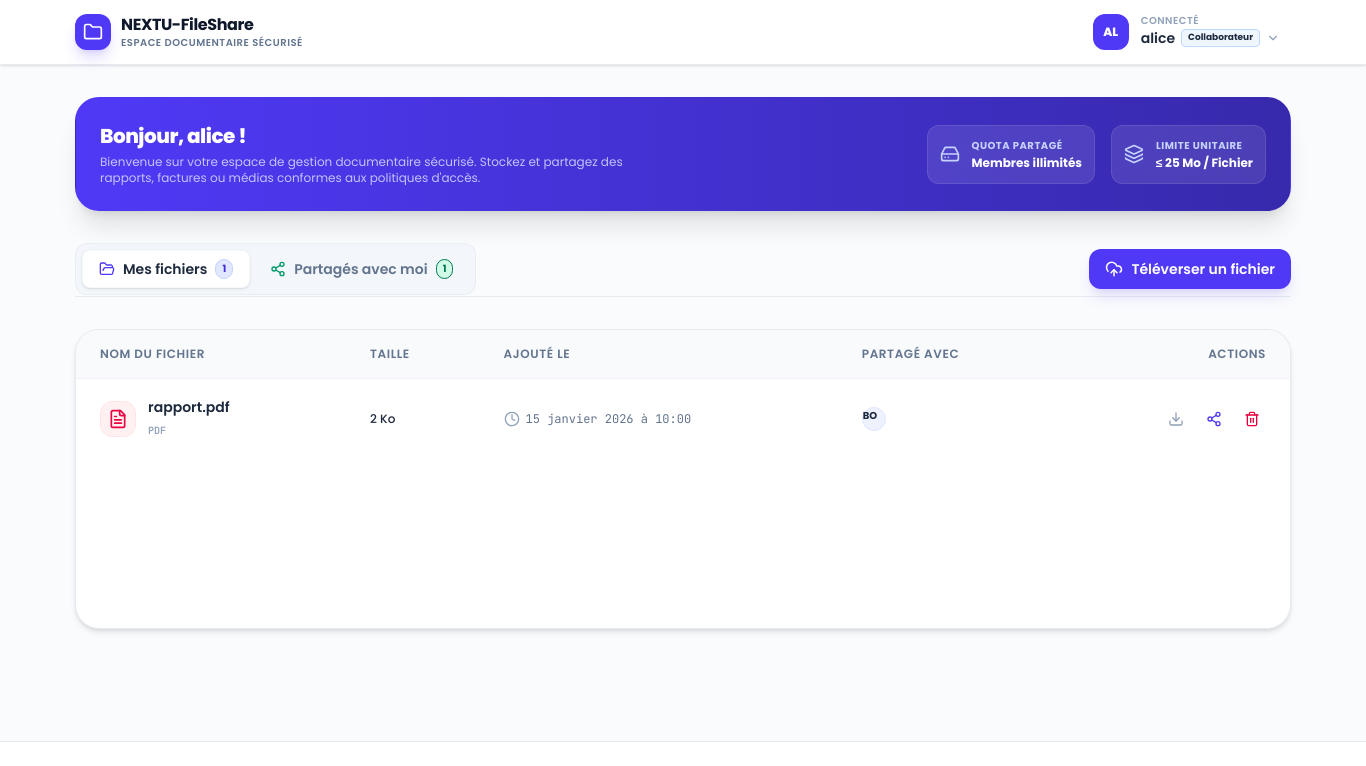
Test: Dashboard › revokes share from share modal when user is already shared
What coordinates should you click on to do the following:
click the button titled "Gérer le partage"
I would click on:
 (1214, 419)
Its box is [1200,405,1228,433].
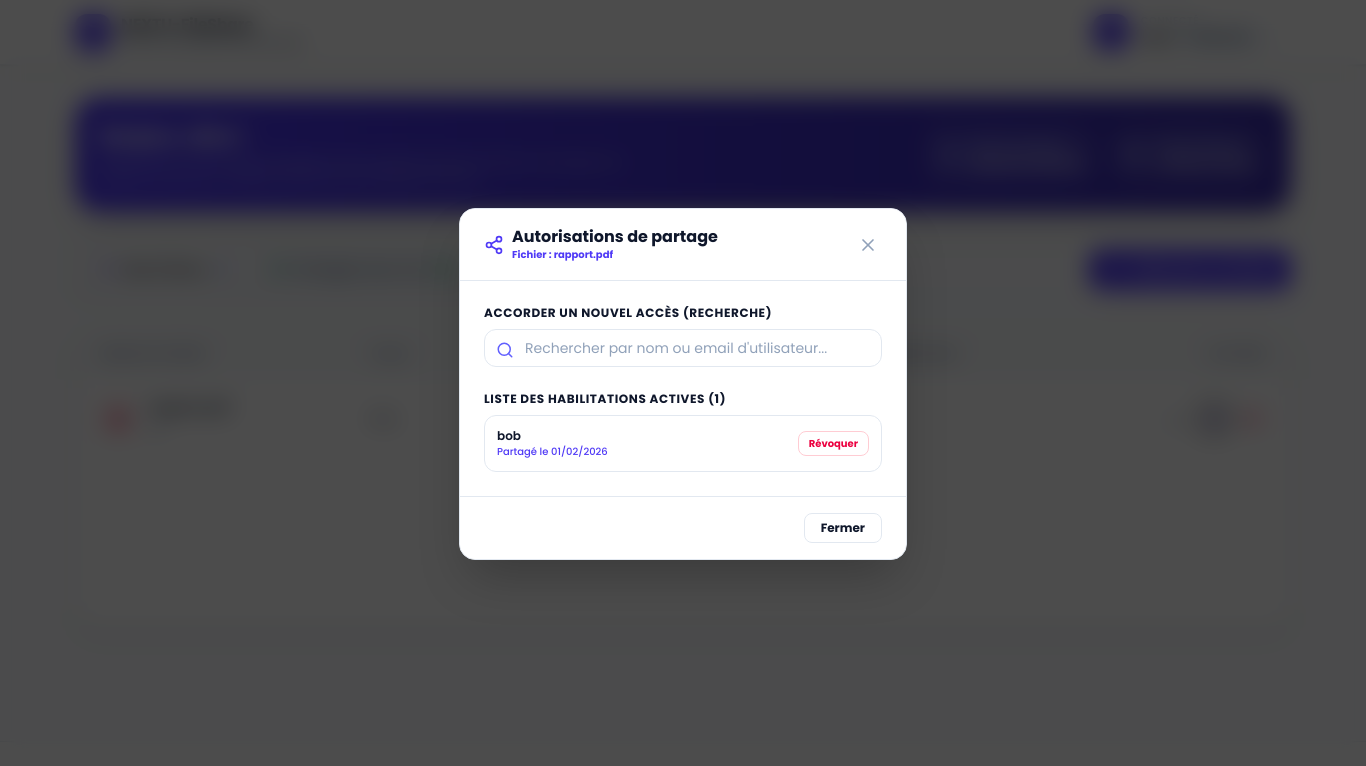
What coordinates should you click on to do the following:
click the button "Révoquer"
I would click on:
 (833, 444)
Its box is [798,431,869,456].
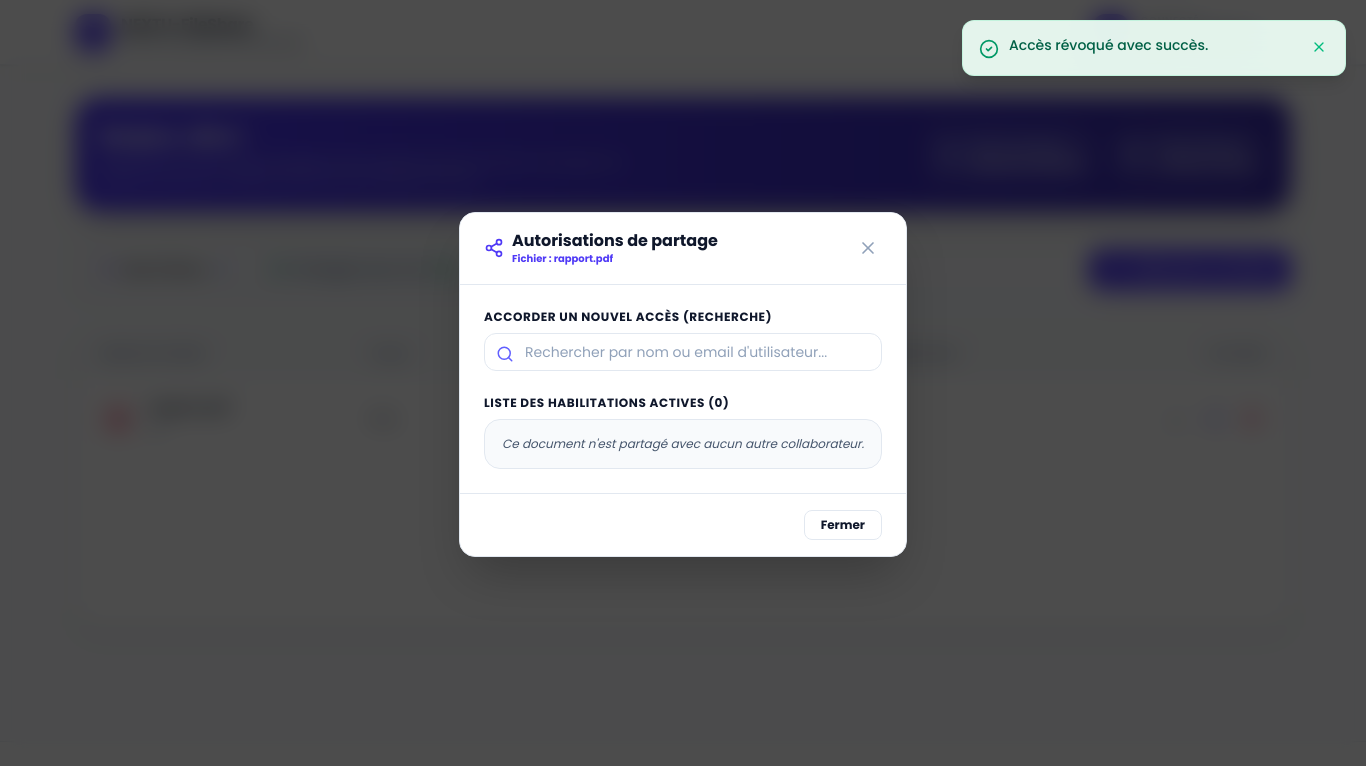
Expected: the text "Accès révoqué avec succès." is shown, [1009,37,1208,54]
